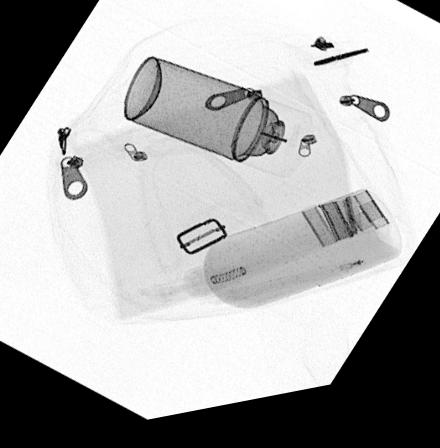Sprayer: (123, 62, 312, 191)
